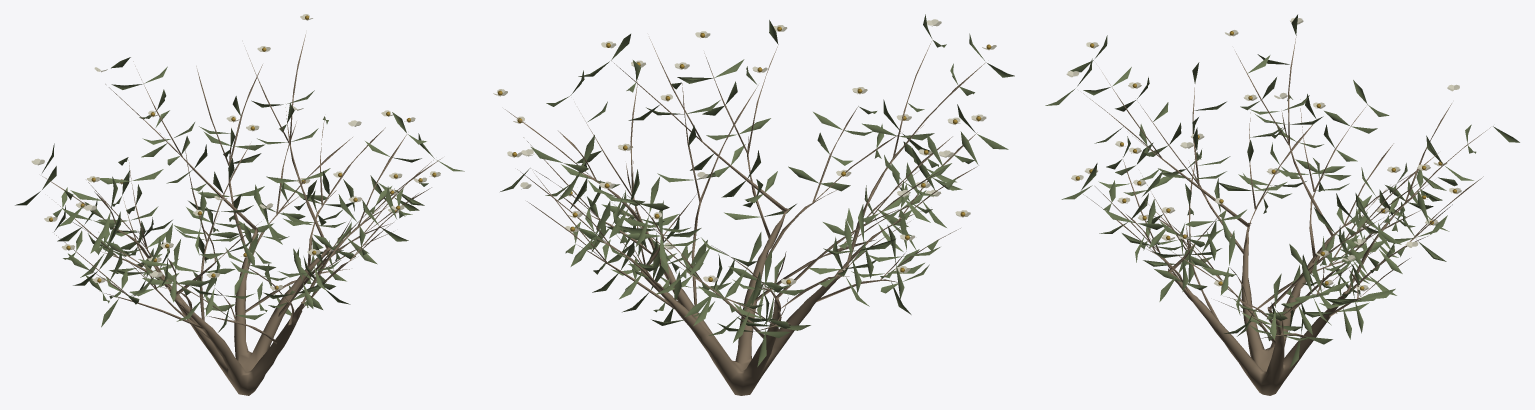
File: Ciste_0_Niveau1.fbx
The picture shows the model from 3 angles, left to right: view 1: azimuth 30°, elevation 25°; view 2: azimuth 150°, elevation 25°; view 3: azimuth 270°, elevation 25°; orthographic projection. The views are drawn at different scales.
Visible parts, largest first — view 1: Ciste_0_Niveau1; view 2: Ciste_0_Niveau1; view 3: Ciste_0_Niveau1.
Boxes of the visible parts, <box> form: Ciste_0_Niveau1: <box>15,14,464,395</box>; Ciste_0_Niveau1: <box>493,14,1014,395</box>; Ciste_0_Niveau1: <box>1045,14,1519,395</box>.
Size of the model in its own units: 76.78 by 53.77 by 77.97.
